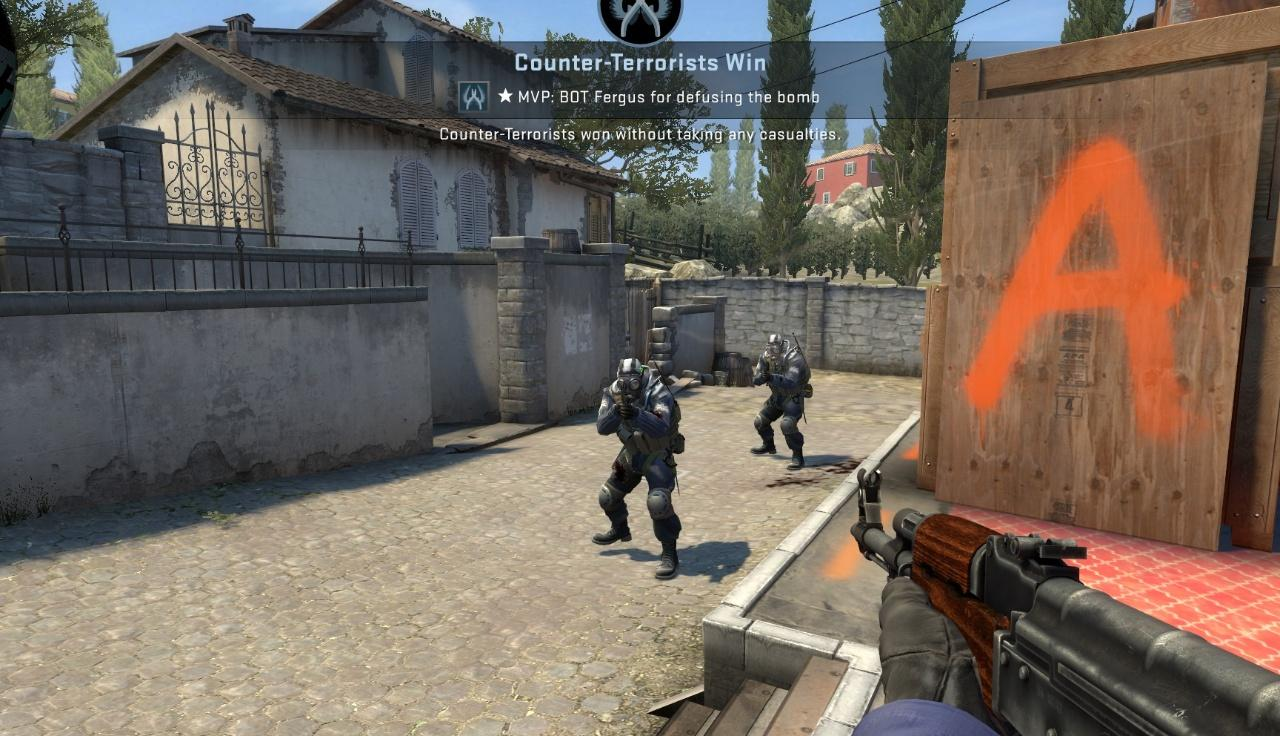ct: (587, 356, 684, 577), (749, 333, 813, 470)
cthead: (617, 358, 644, 400), (765, 333, 785, 356)
rifle: (851, 468, 1280, 736)
